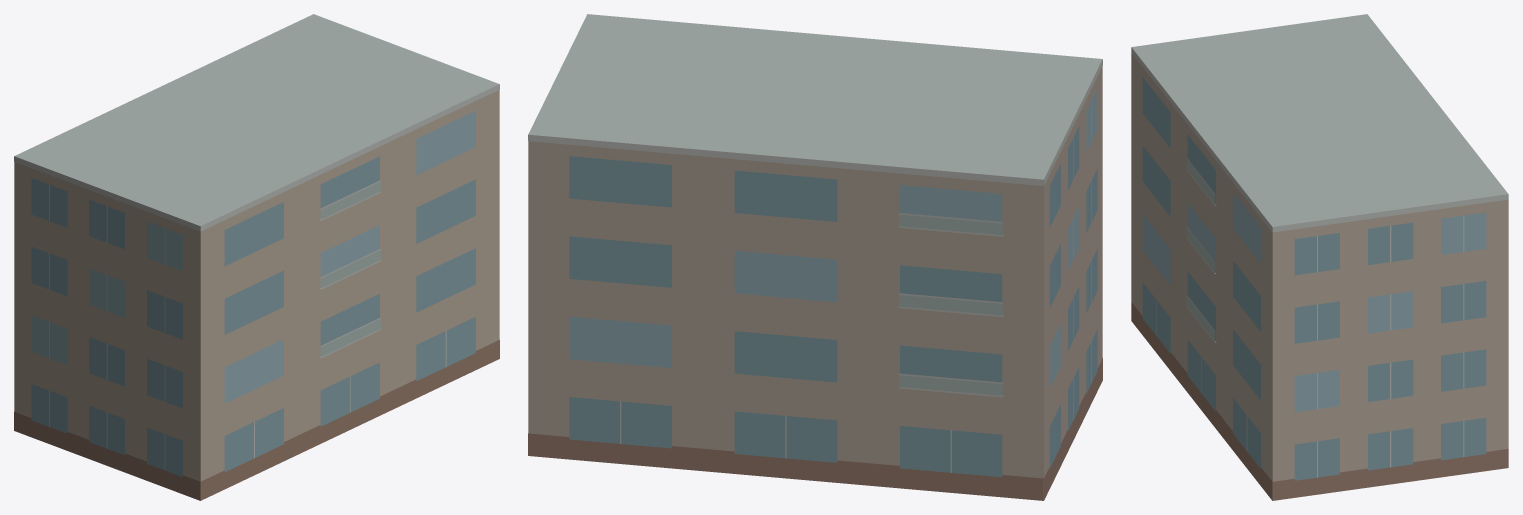
Rendered from residential-6e66782e-f432-44b3-afd4-969ade02a392.glb.
3 views of the same model, side by side, from view 1: azimuth 30°, elevation 25°; view 2: azimuth 150°, elevation 25°; view 3: azimuth 270°, elevation 25° (orthographic). The views are drawn at different scales.
Parts seen in each view (by area): view 1: residential-6e66782e-f432-44b3-afd4-969ade02a392.tmp; view 2: residential-6e66782e-f432-44b3-afd4-969ade02a392.tmp; view 3: residential-6e66782e-f432-44b3-afd4-969ade02a392.tmp.
Part boxes in pixels (box(x1,y1,x2,y2)): residential-6e66782e-f432-44b3-afd4-969ade02a392.tmp: box(14, 14, 499, 500); residential-6e66782e-f432-44b3-afd4-969ade02a392.tmp: box(528, 14, 1102, 500); residential-6e66782e-f432-44b3-afd4-969ade02a392.tmp: box(1131, 14, 1508, 500).
Bounding box in the file's own units: 20.37 × 12.2 × 15.24.
